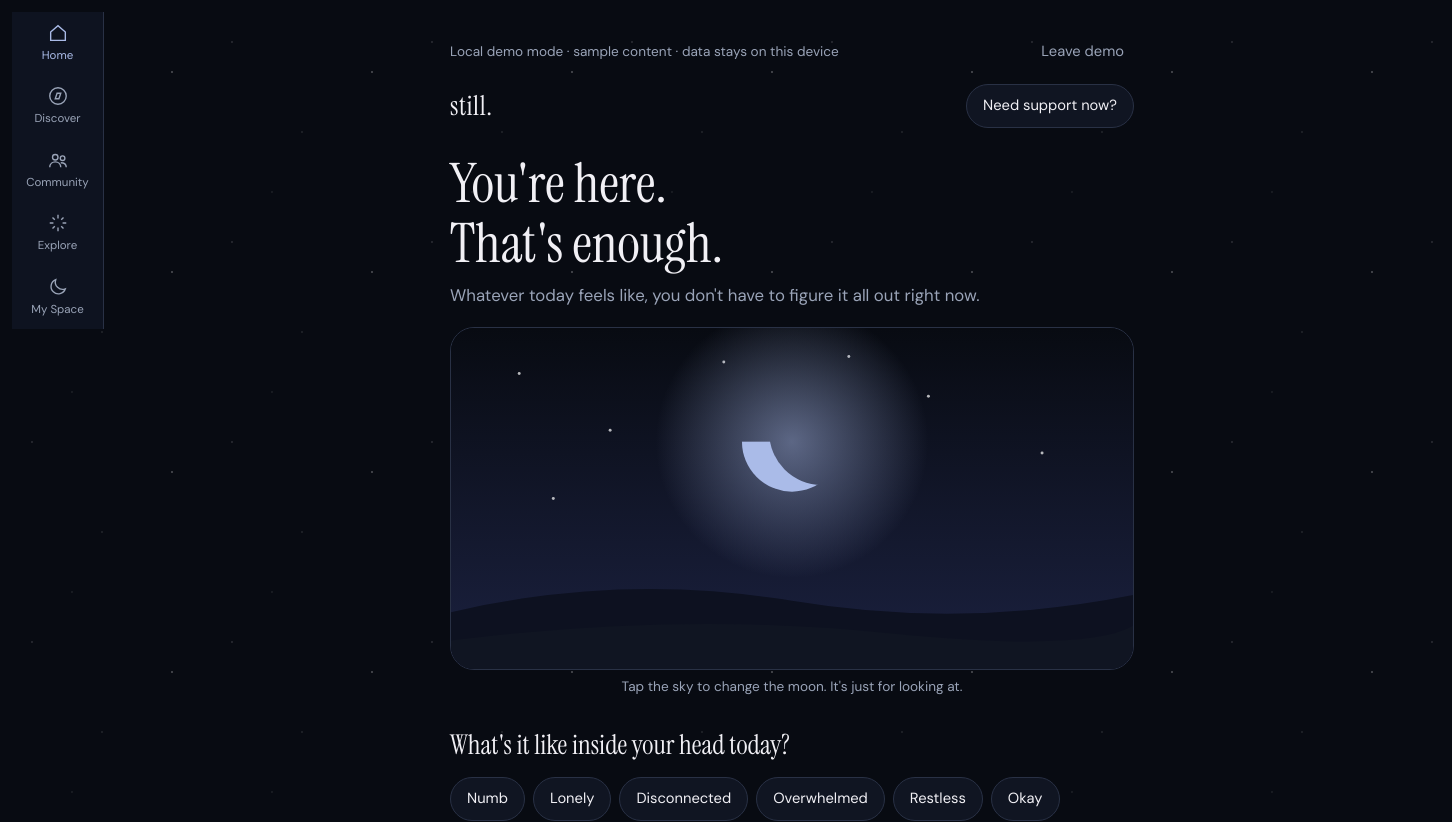
Test: records a check-in, shows it in My Space, and deletes it
Step 1. Click the button "Numb" → point(487, 799), box [450,777,525,821]
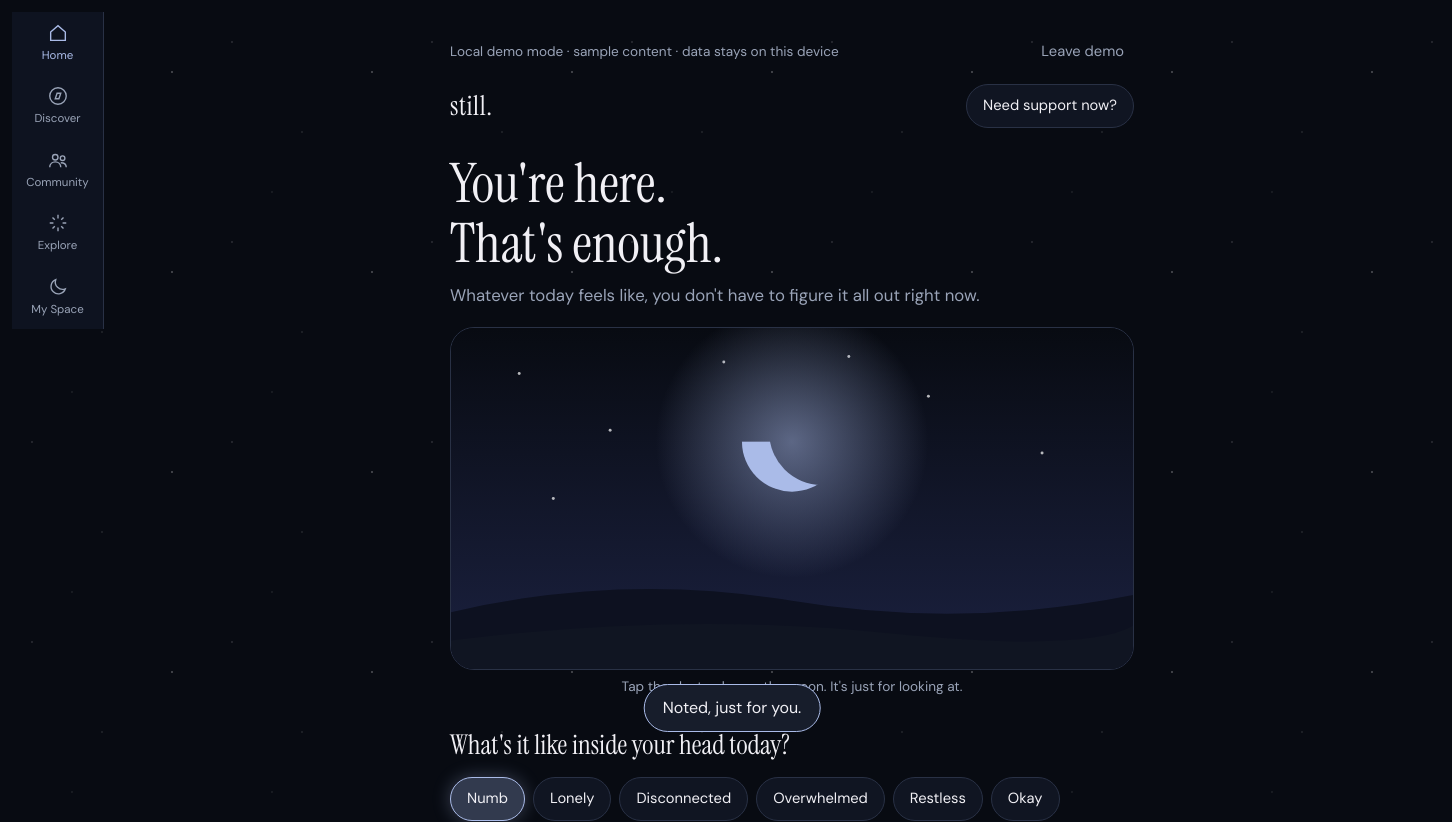
Check: the button "Numb" is pressed, box [450,777,525,821]
Step 2. Click the button "My Space" → point(58, 297), box [12,266,103,329]
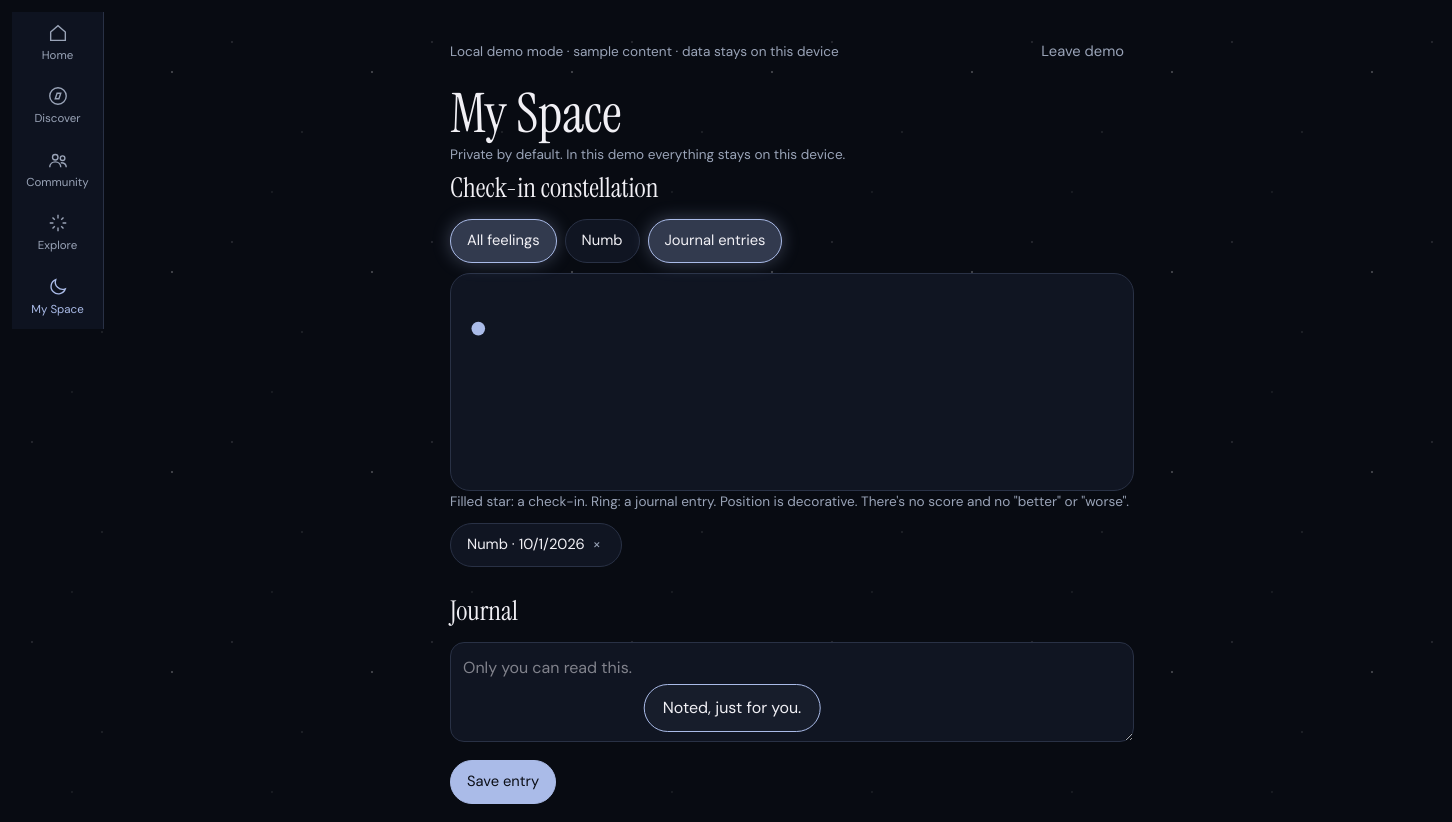
Check: the text "Numb · 10/1/2026 ×" is shown, box [450,523,622,567]
Step 3. Click the button named "Delete check-in" → point(597, 545), box [589,533,605,556]
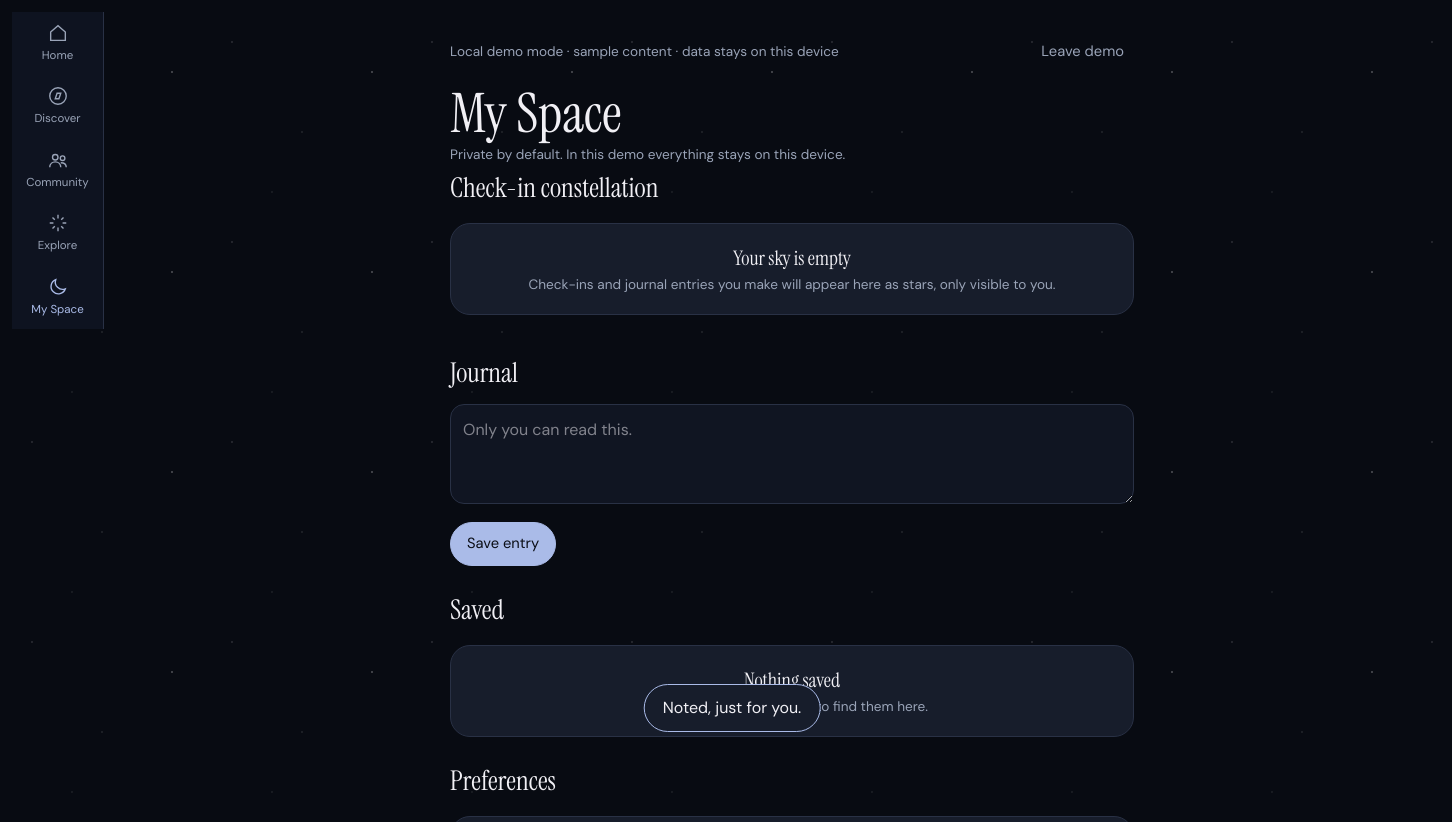
Check: the heading "Your sky is empty" is shown, box [733,245,851,271]
